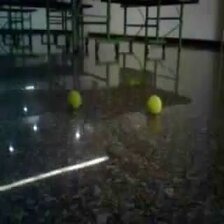tennis: (146, 94, 164, 115), (66, 90, 83, 110)
